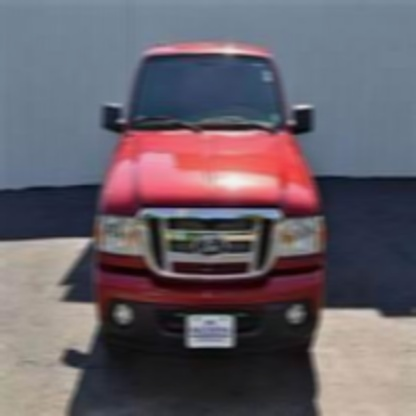Vehicle: (92, 37, 328, 386)
